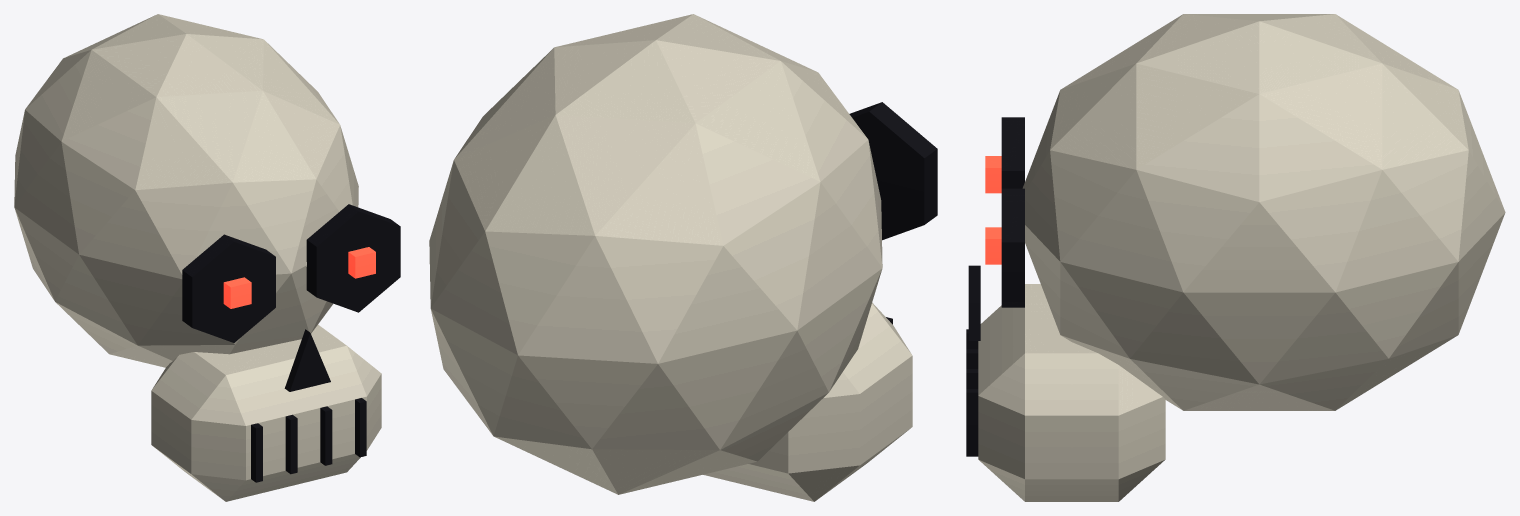
The model's file is catedral-skull.glb.
The picture shows the model from 3 angles, left to right: view 1: azimuth 30°, elevation 25°; view 2: azimuth 150°, elevation 25°; view 3: azimuth 270°, elevation 25°; orthographic projection. The views are drawn at different scales.
Visible parts, largest first — view 1: skull; view 2: skull; view 3: skull.
Boxes of the visible parts, x1,y1,x2,y2 form: skull: (14, 14, 400, 501); skull: (429, 14, 937, 501); skull: (966, 14, 1505, 501).
Bounding box in the file's own units: 0.1617 × 0.21 × 0.23.
1 material, 1 textured.
